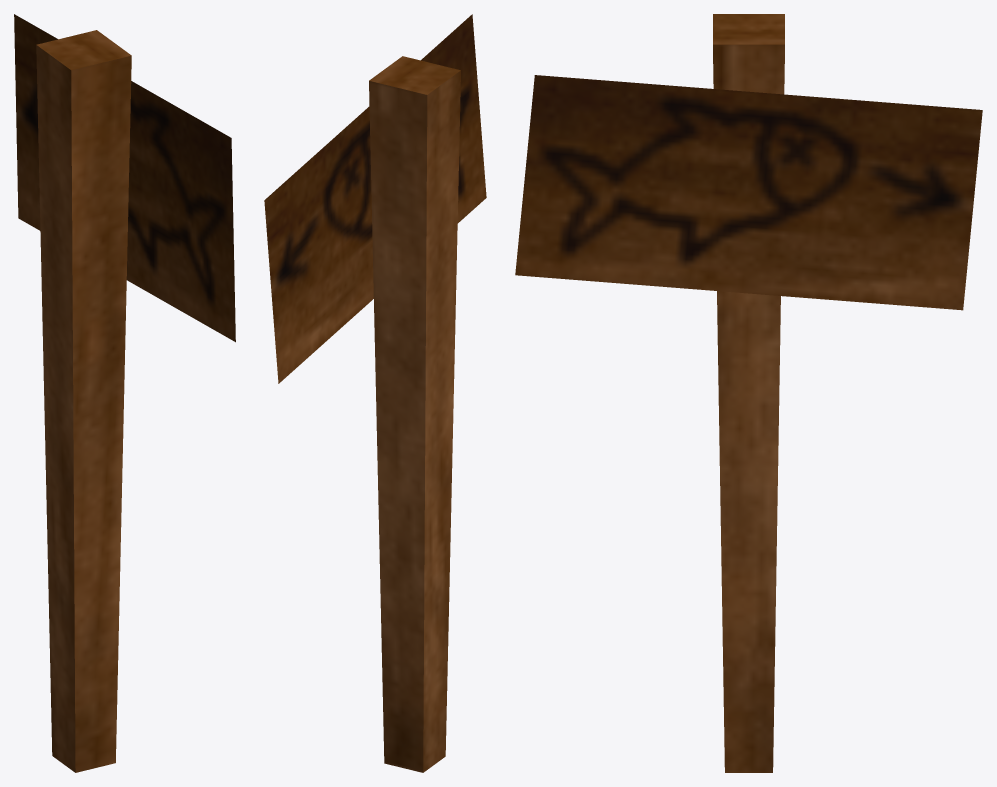
File: FishSign.fbx
3 renders of one model, left to right at view 1: azimuth 30°, elevation 25°; view 2: azimuth 150°, elevation 25°; view 3: azimuth 270°, elevation 25°, orthographic. The views are drawn at different scales.
Parts seen in each view (by area): view 1: Cube; view 2: Cube; view 3: Cube.
Part boxes in pixels (x1,y1,x2,y2): Cube: (14,14,235,772); Cube: (264,14,486,772); Cube: (515,14,982,772).
Size of the model in its own units: 39.45 by 360 by 208.
